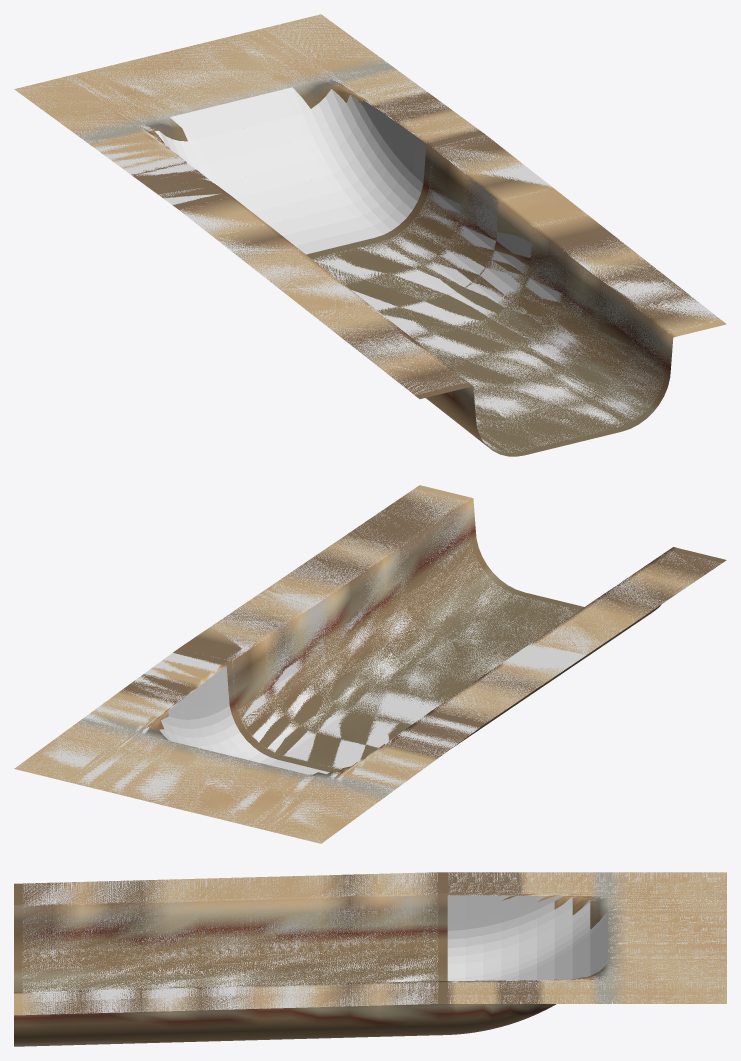
The model's file is wash_dropin_lip.glb.
3 views of the same model, one above another, from view 1: azimuth 30°, elevation 25°; view 2: azimuth 150°, elevation 25°; view 3: azimuth 270°, elevation 25° (orthographic). The views are drawn at different scales.
Visible parts, largest first — view 1: wash_dropin_lip, wash_dropin_lip-col; view 2: wash_dropin_lip, wash_dropin_lip-col; view 3: wash_dropin_lip, wash_dropin_lip-col.
Part boxes in pixels (bbox=[...]): wash_dropin_lip: bbox=[14, 14, 726, 456]; wash_dropin_lip-col: bbox=[14, 15, 720, 452]; wash_dropin_lip: bbox=[14, 485, 726, 843]; wash_dropin_lip-col: bbox=[16, 489, 721, 843]; wash_dropin_lip: bbox=[14, 872, 726, 1046]; wash_dropin_lip-col: bbox=[22, 872, 726, 1014].
Size of the model in its own units: 31.48 by 9.29 by 72.
